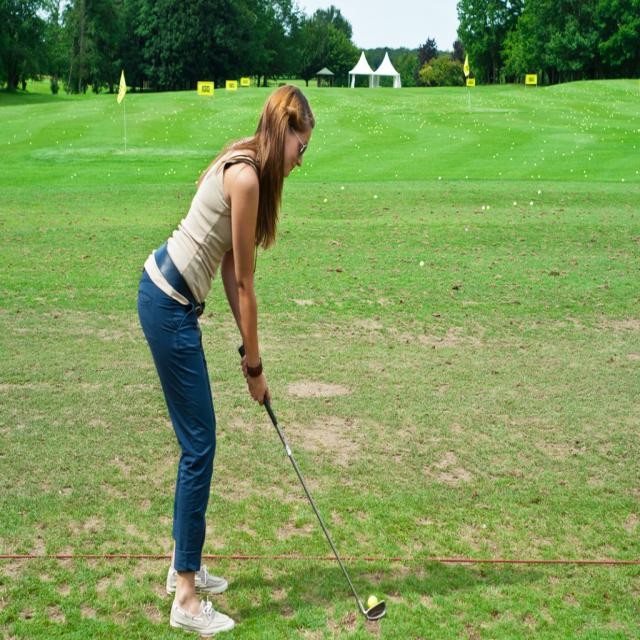golfball: (363, 592, 379, 610), (420, 260, 424, 268)
